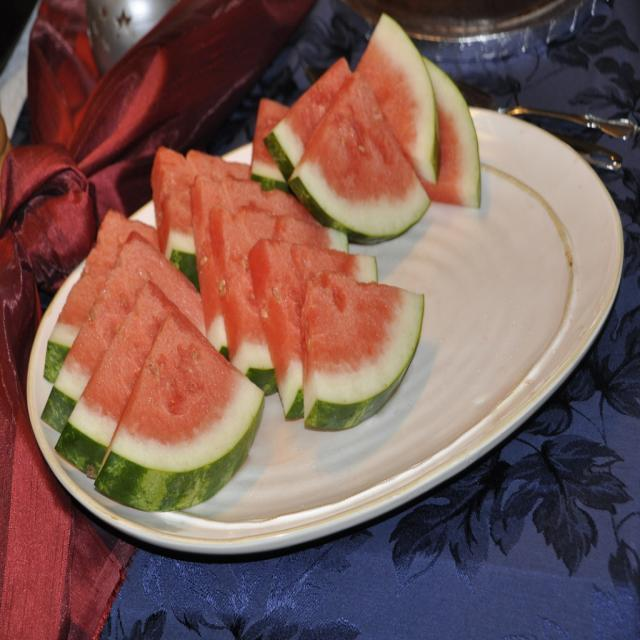Watermelon: (39, 13, 480, 513)
